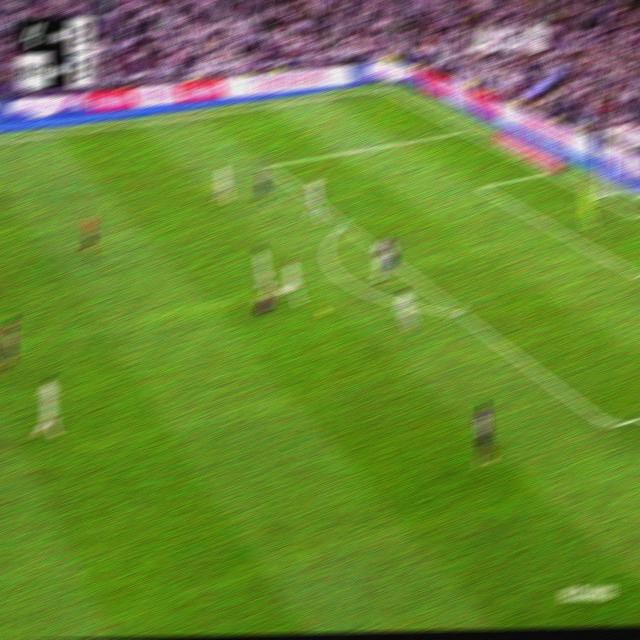bigarea_bottom_inner: (600, 410, 617, 440)
bigarea_top_inner: (263, 158, 273, 173)
bigarea_top_outter: (458, 122, 469, 135)
bottom_arc_area_intersection: (450, 301, 466, 322)
corner: (377, 82, 390, 94)
midline_bottom_intersection: (593, 188, 604, 201)
smallarea_top_inner: (475, 178, 487, 194)
top_arc_area_intersection: (337, 214, 349, 231)
